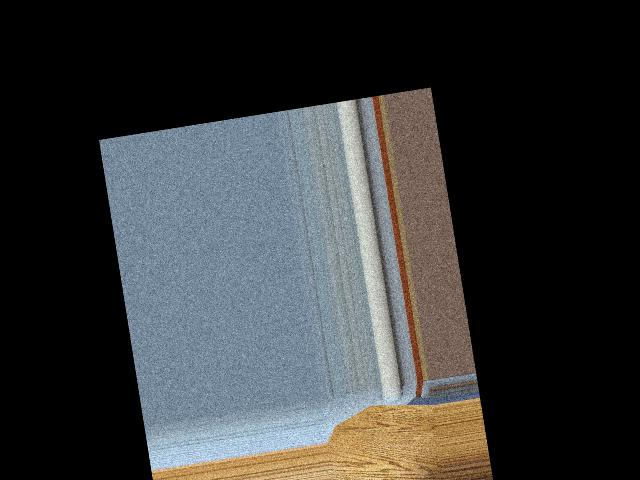cotage: (360, 477, 395, 480)
